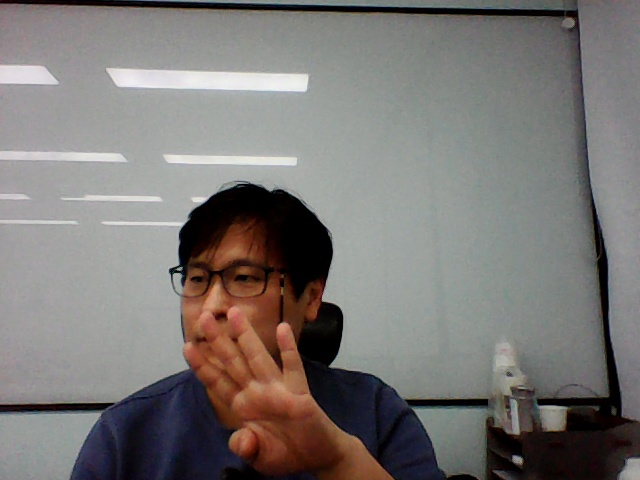four: (173, 303, 364, 474)
